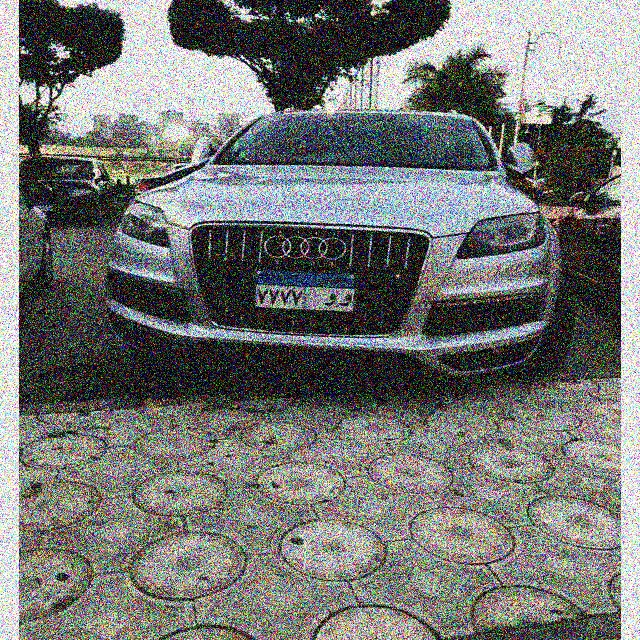License Plate: (252, 267, 358, 315)
